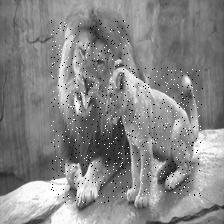Lion: (50, 21, 128, 204), (103, 67, 202, 196)
